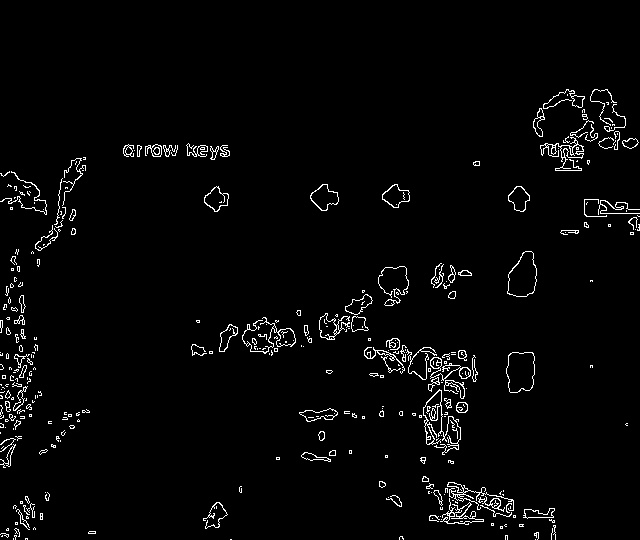left: (304, 180, 347, 215), (197, 183, 236, 217), (377, 179, 415, 213)
up: (503, 179, 538, 218)
